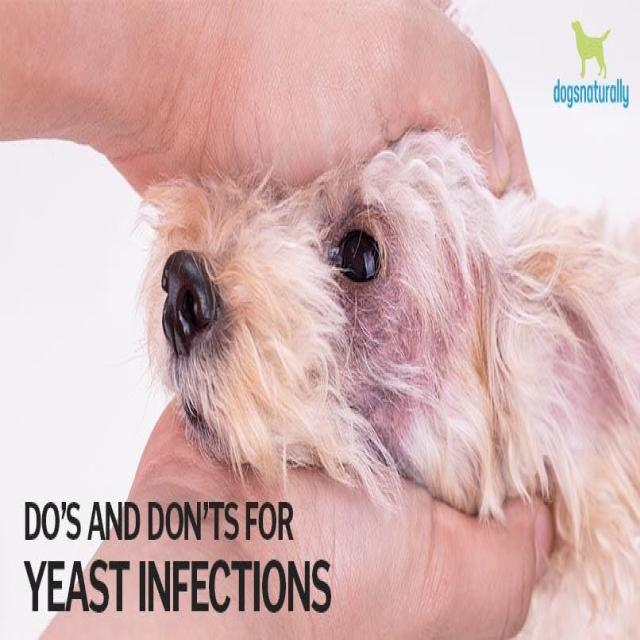fungal infection: (324, 274, 451, 444), (552, 303, 638, 427), (327, 195, 406, 285), (442, 236, 501, 322)
